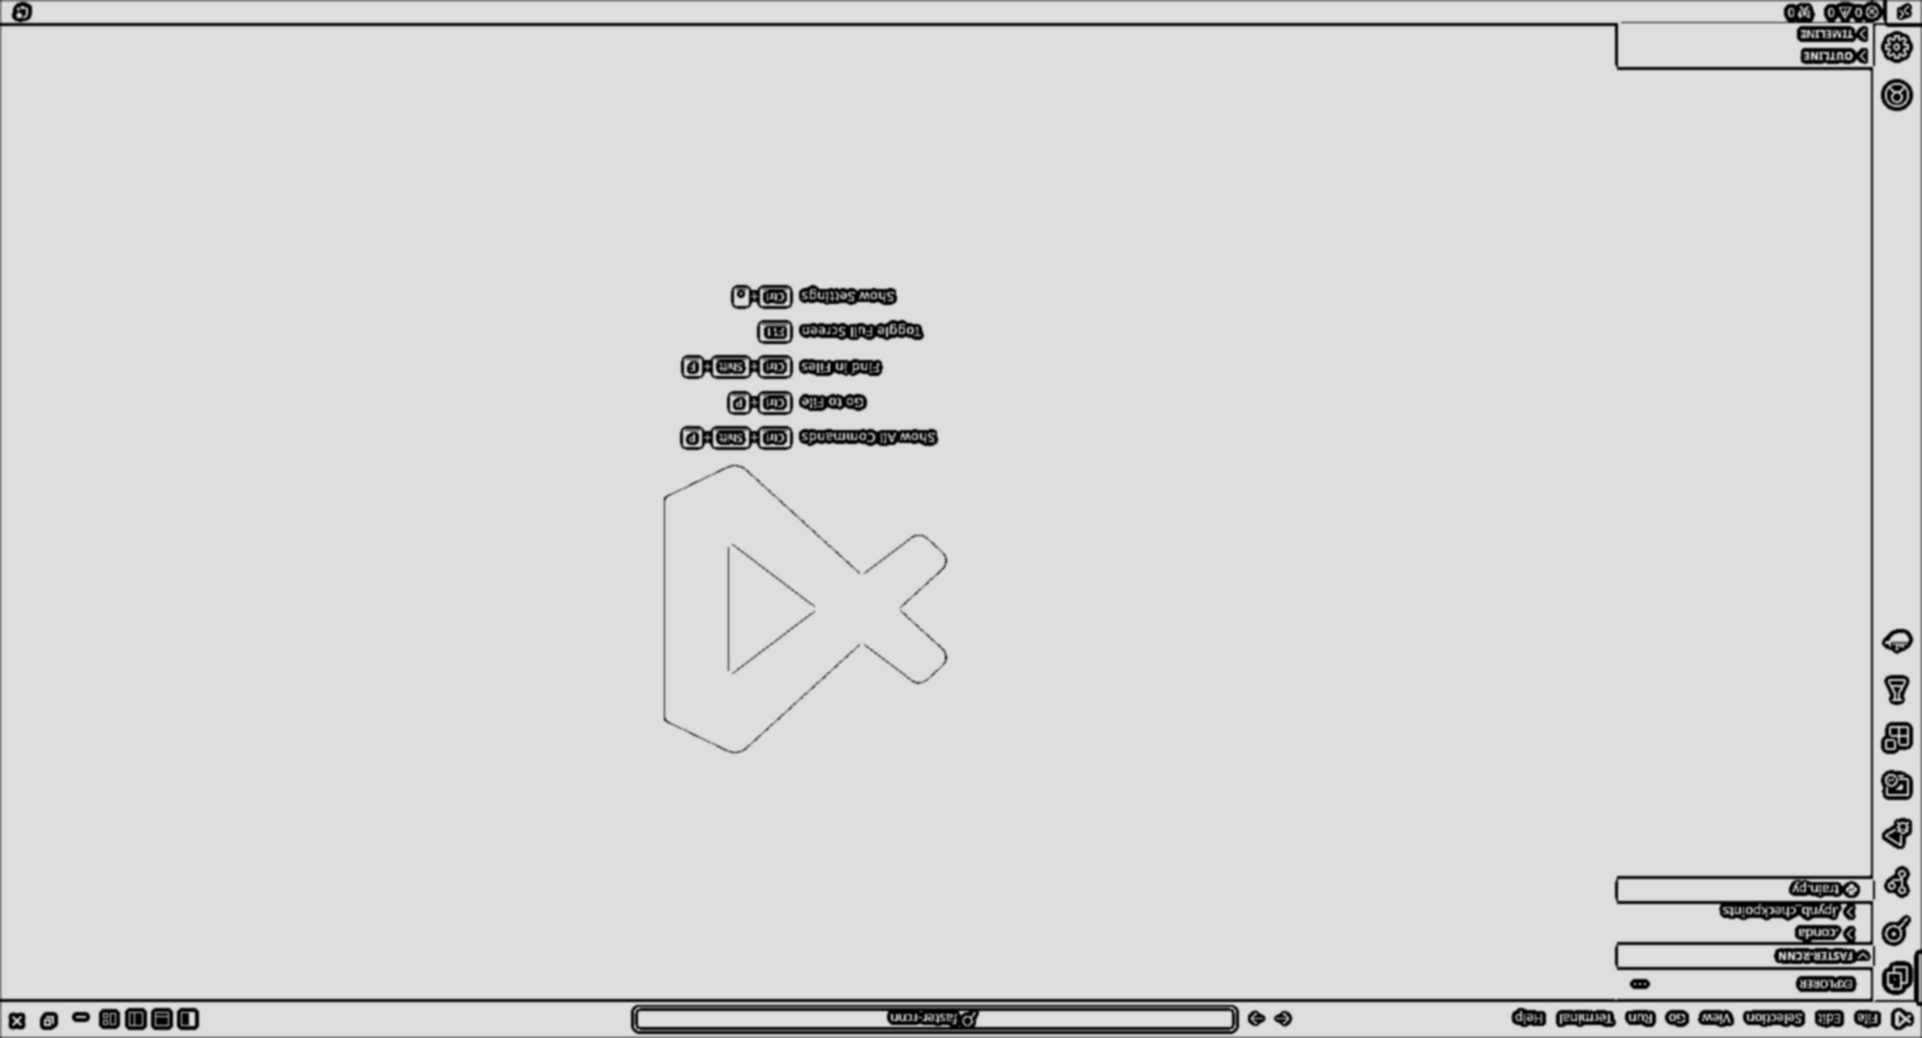Accounts: (1881, 81, 1918, 118)
Activity Bar: (1873, 26, 1921, 1001)
Close: (10, 1012, 26, 1035)
Editor: (3, 22, 1620, 1003)
Explorer: (1884, 965, 1914, 998)
Extensions: (1882, 722, 1914, 758)
Manage: (1881, 32, 1916, 68)
Maximize: (41, 1010, 58, 1033)
Minimize: (72, 1011, 92, 1028)
Primary Side Bar: (1618, 26, 1875, 1003)
Run and Debug: (1880, 817, 1918, 854)
Search: (1882, 915, 1916, 951)
Search Bar: (624, 1006, 1243, 1034)
Source Control: (1881, 868, 1917, 905)
Status Bar: (4, 4, 1921, 20)
Testing: (1884, 676, 1914, 708)
Top Bar: (4, 1003, 1921, 1037)
